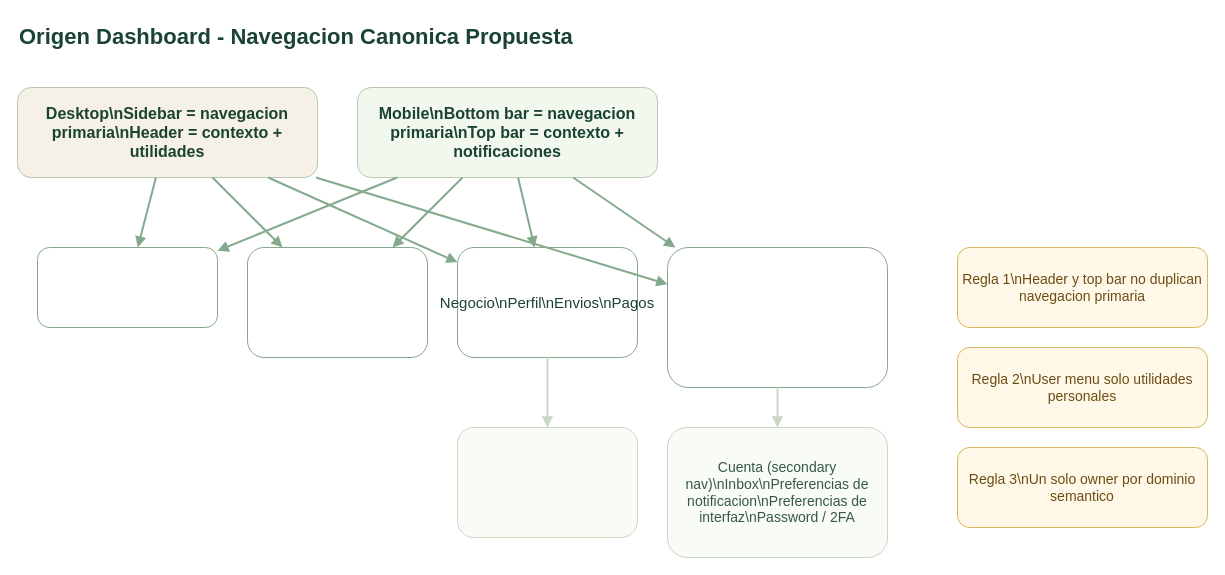
This 1225x575 diagram has some shape labels left out. The centre of each missing label's shape, as x and y in pixels:
"Cuenta\n/dashboard/account\nNotificaciones\nSeguridad\nAyuda\nSesion" belongs at [777,317].
"Operacion\nPedidos\nProductos\nReseñas" belongs at [337,302].
"Perfil (secondary nav)\nPersonal\nNegocio\nCertificaciones" belongs at [547,482].
"Resumen\n/dashboard" belongs at [127,287].
